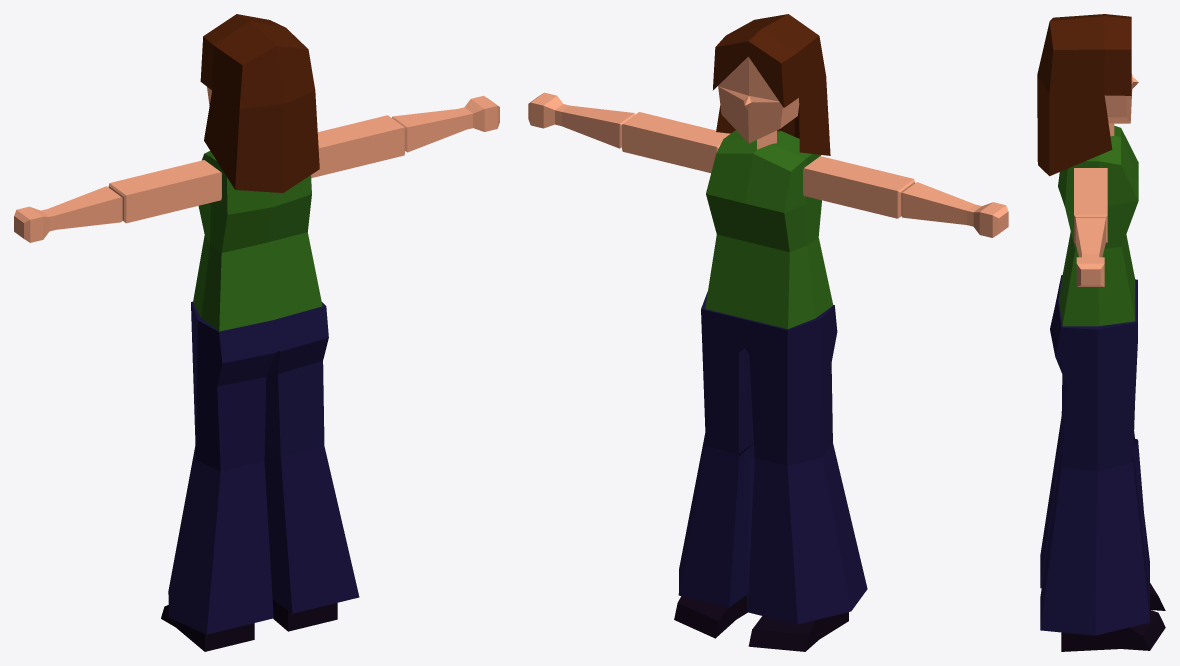
The model's file is modelo_personajeFondoM.fbx.
The picture shows the model from 3 angles, left to right: view 1: azimuth 30°, elevation 25°; view 2: azimuth 150°, elevation 25°; view 3: azimuth 270°, elevation 25°; orthographic projection.
Visible parts, largest first — view 1: CUELLO; view 2: CUELLO; view 3: CUELLO.
Boxes of the visible parts, x1,y1,x2,y2 form: CUELLO: [14, 14, 499, 651]; CUELLO: [528, 14, 1008, 651]; CUELLO: [1037, 14, 1165, 651].
Bounding box in the file's own units: 1387 × 1667 × 322.
